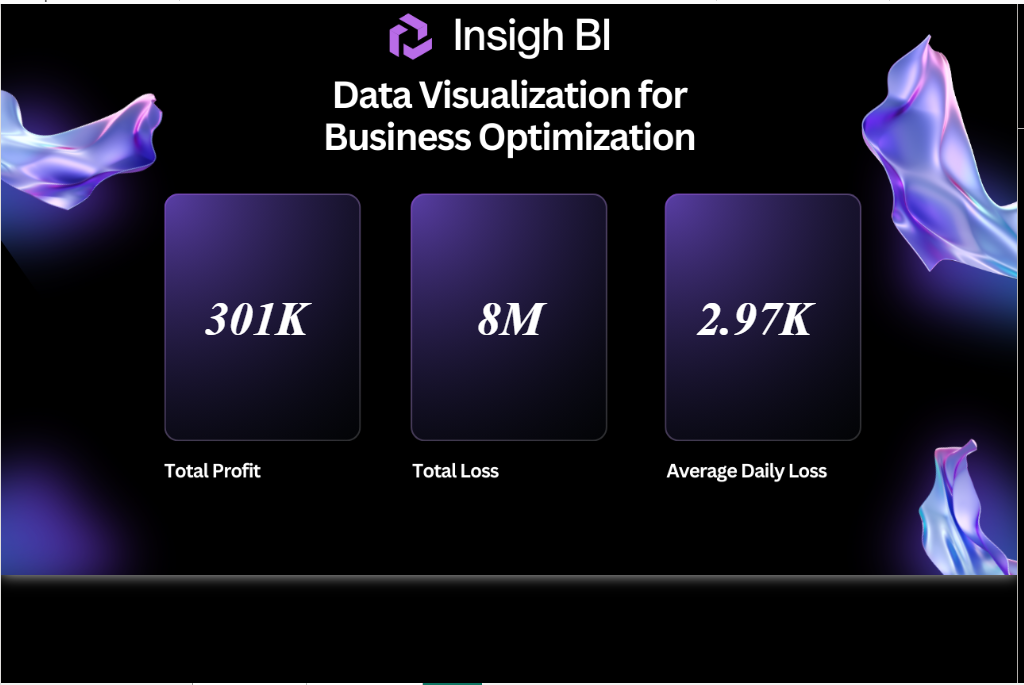

Layout of this report page (visuals, bound fields, positions):
{"tool":"powerbi","page":{"name":"Page 2","canvas":[1280,720],"ordinal":1},"visuals":[{"type":"card","fields":{"Values":["measures Table.Total Loss"]},"box":[536.7,251.3,207.9,279.7],"z":1},{"type":"card","fields":{"Values":["measures Table.Average Loss Per Day"]},"box":[844.7,251.3,207.9,279.7],"z":2},{"type":"card","fields":{"Values":["measures Table.Total Profit"]},"box":[217.3,251.3,207.9,279.7],"z":3}]}

Visuals, with their boxes on the page's 1280x720 design canvas (x1, y1, x2, y2). These are canvas units, not pixel positions in the 1024x685 screenshot, which may show the page scaled, cropped or inside an application window:
card - measures Table.Total Loss: 537:251:745:531
card - measures Table.Average Loss Per Day: 845:251:1053:531
card - measures Table.Total Profit: 217:251:425:531
